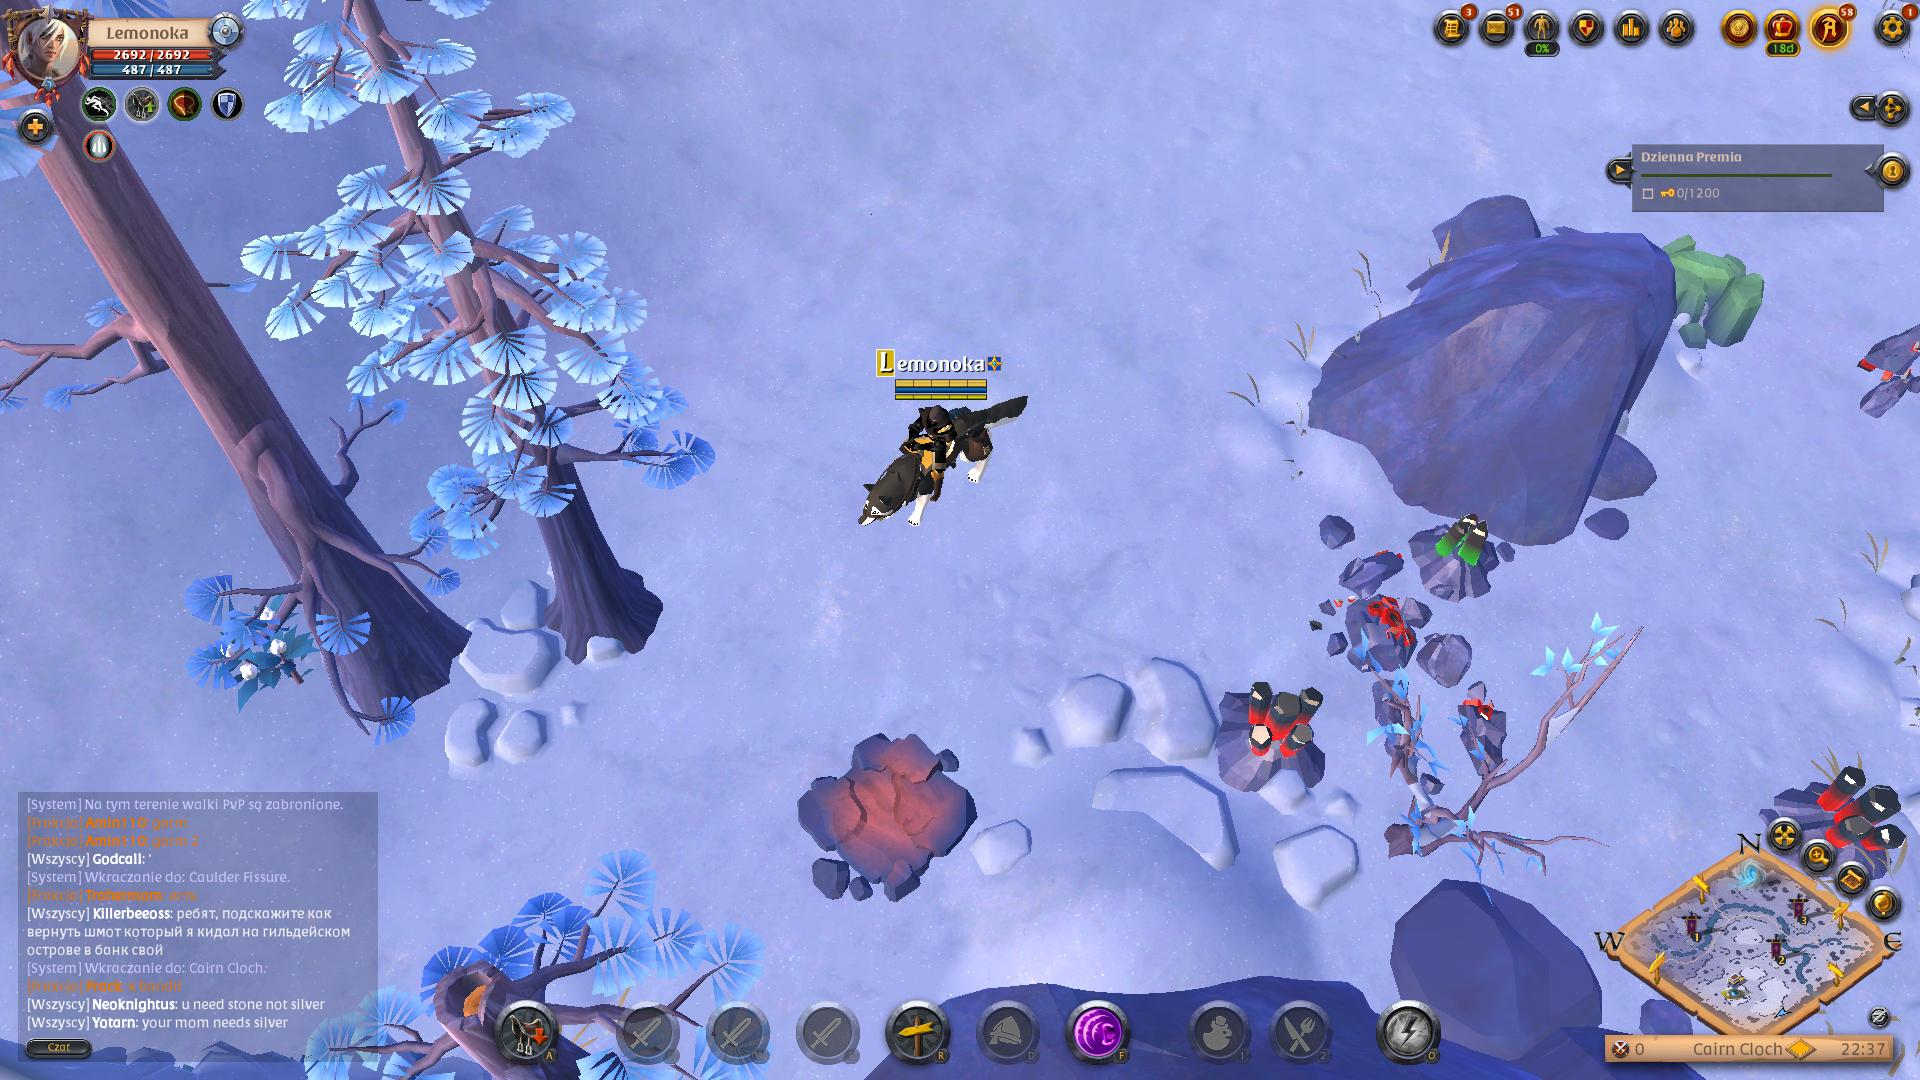ore tier 3: (1412, 510, 1510, 604)
ore tier 5: (1215, 680, 1332, 794)
